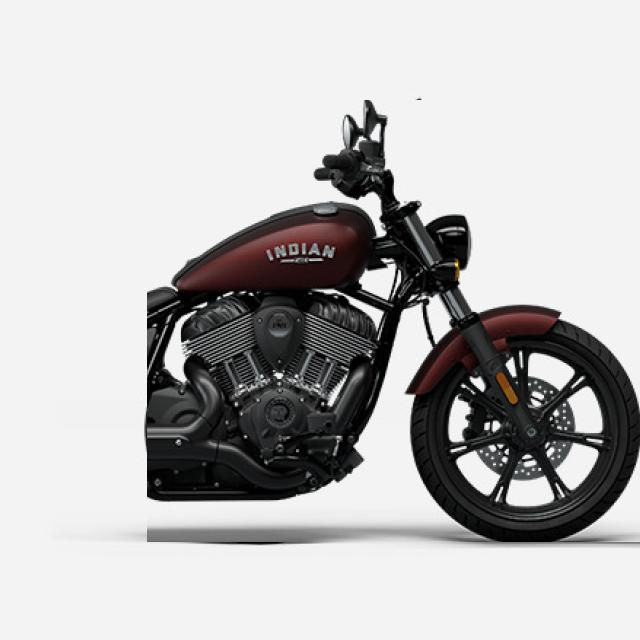motorcycle: (147, 100, 640, 542)
